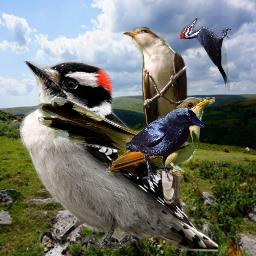Crow: (126, 108, 205, 184)
Cuckoo: (38, 97, 215, 176), (122, 27, 188, 205)
Woodpecker: (18, 61, 218, 252), (180, 18, 231, 90)
